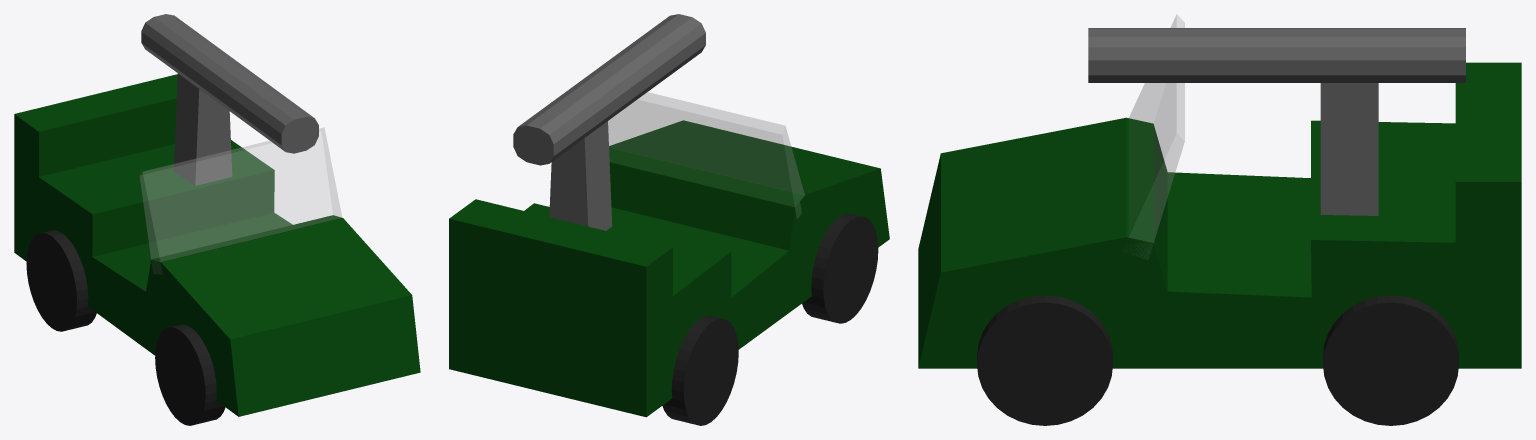
The model's file is jackal_jeep.fbx.
3 renders of one model, left to right at view 1: azimuth 30°, elevation 25°; view 2: azimuth 150°, elevation 25°; view 3: azimuth 270°, elevation 25°, orthographic. The views are drawn at different scales.
Parts seen in each view (by area): view 1: MainJeep; view 2: MainJeep; view 3: MainJeep.
Part boxes in pixels (bbox=[...]): MainJeep: bbox=[14, 14, 420, 425]; MainJeep: bbox=[449, 14, 889, 425]; MainJeep: bbox=[918, 14, 1521, 425].
Bounding box in the file's own units: 2.25 × 2.72 × 4.27.
